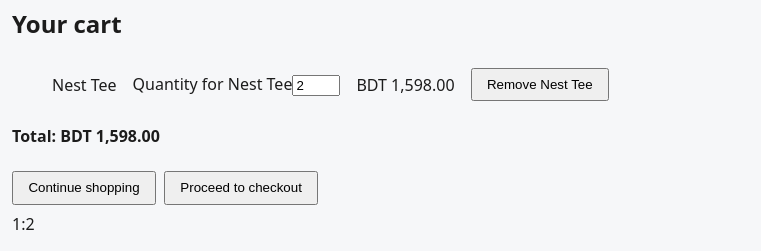
QuantityInput inside the cart › F3: a value above the stock is clamped and explained
Replace the text in the number field labelled "Quantity for Nest Tee" with "9" at (316, 86), box top-left (292, 75), bottom-right (340, 96)
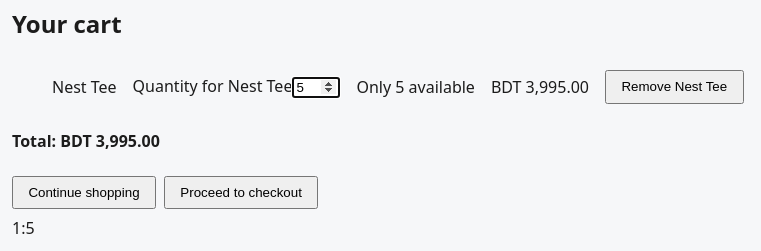
Expected: the text "Only 5 available" is shown, top-left (356, 76), bottom-right (475, 98)
